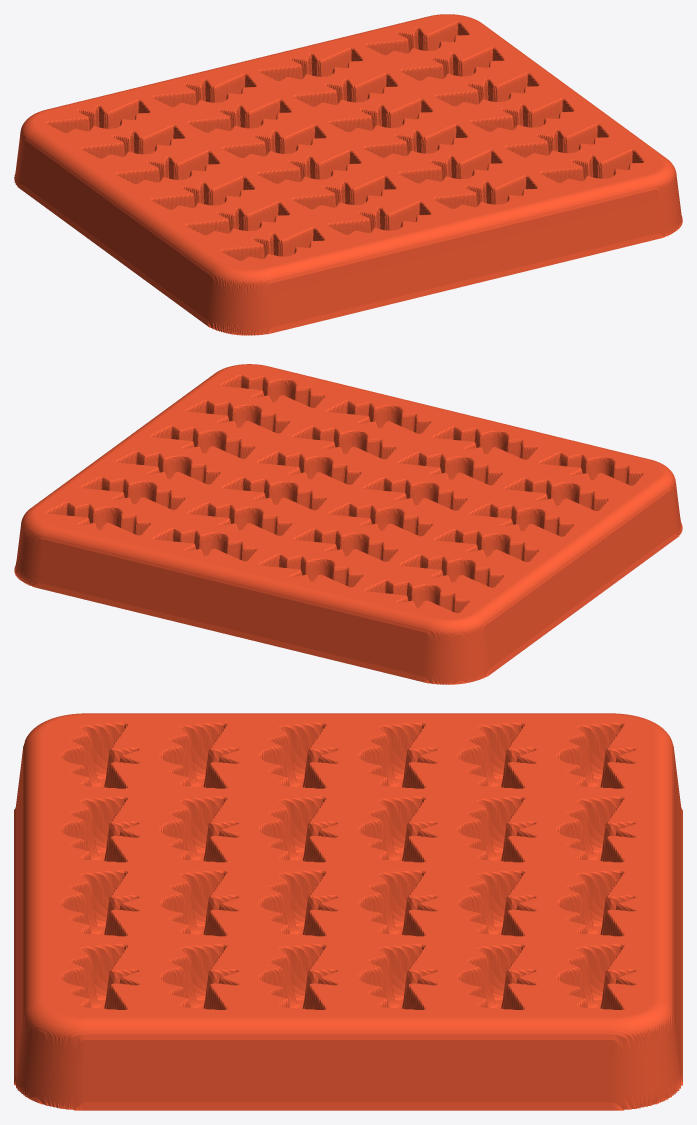
Rendered from mold.glb.
3 views of the same model, one above another, from view 1: azimuth 30°, elevation 25°; view 2: azimuth 150°, elevation 25°; view 3: azimuth 270°, elevation 25° (orthographic). The views are drawn at different scales.
Parts seen in each view (by area): view 1: geometry_0; view 2: geometry_0; view 3: geometry_0.
Boxes of the visible parts, box(x1,y1,x2,y2) form: geometry_0: box(14, 14, 682, 335); geometry_0: box(14, 364, 682, 684); geometry_0: box(14, 713, 682, 1110).
Bounding box in the file's own units: 0.098 × 0.0114 × 0.0849.
